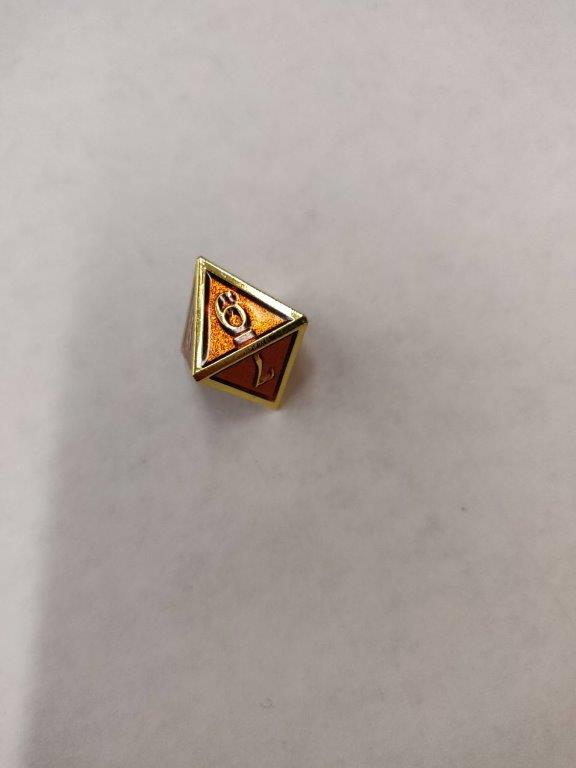d8-6: (177, 255, 310, 412)
